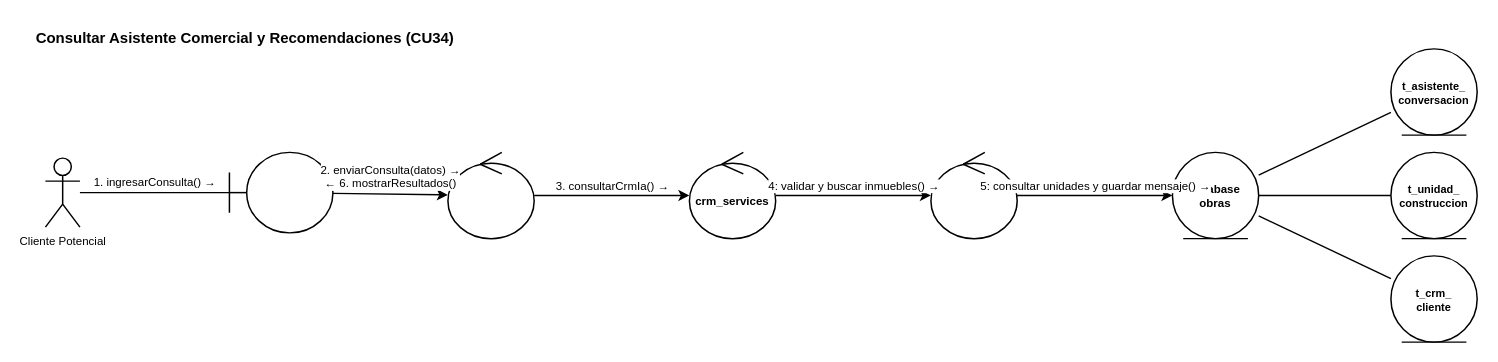
The diagram is 1498 pixels wide and 362 high, and some of its shapes have lost their labels. Each missing label, with the centre of its shape:
"ai_routes" goes at pixel 490 195.
"assistant_repos" goes at pixel 973 195.
"IU_asistente" goes at pixel 280 192.
